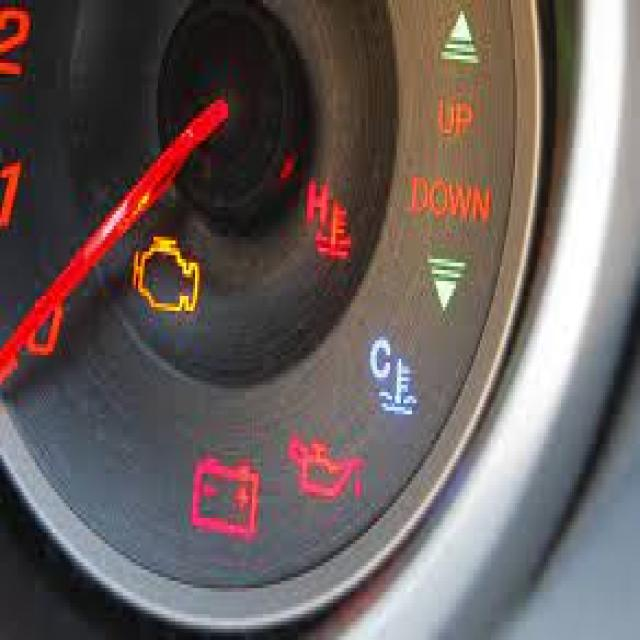kontrolka: (114, 213, 213, 327), (180, 442, 265, 557), (281, 431, 377, 527), (366, 327, 430, 442)
